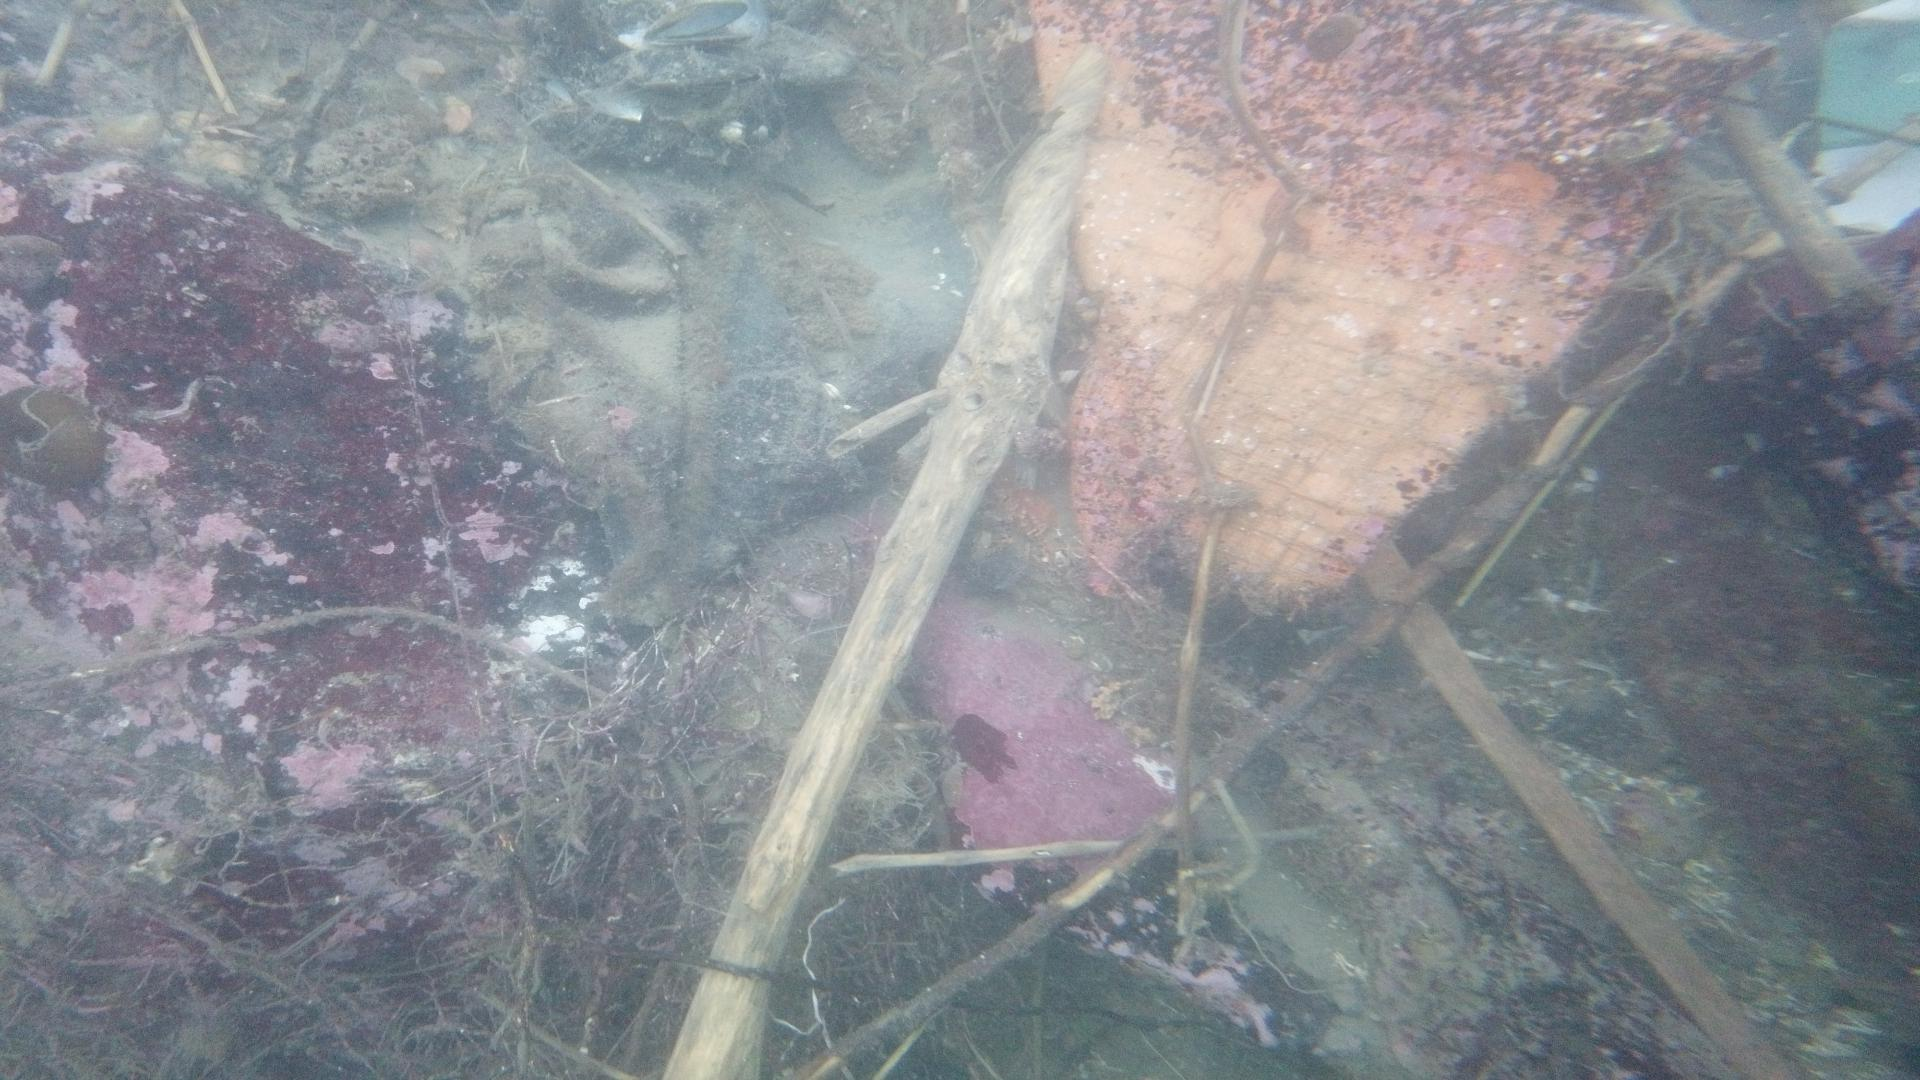wood: (790, 123, 1919, 1079), (651, 47, 1106, 1080), (1352, 527, 1803, 1080), (1610, 0, 1892, 324)
